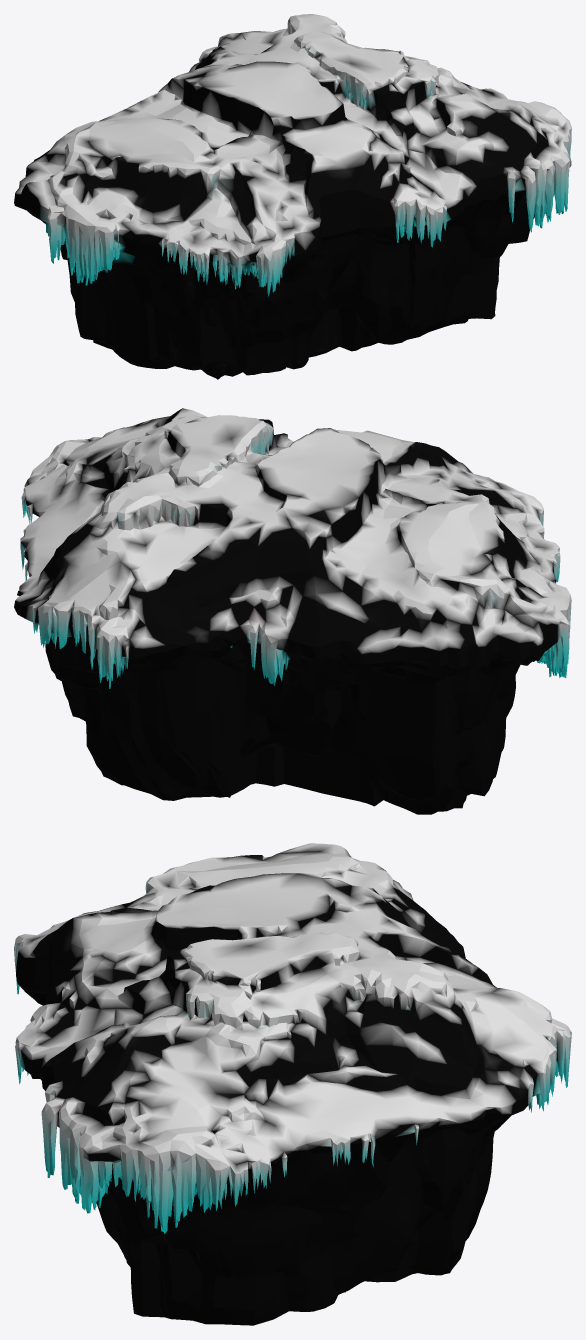
Rendered from CliffIce_0.fbx.
The picture shows the model from 3 angles, top to bottom: view 1: azimuth 30°, elevation 25°; view 2: azimuth 150°, elevation 25°; view 3: azimuth 270°, elevation 25°; orthographic projection. The views are drawn at different scales.
Parts seen in each view (by area): view 1: CliffIce_0_LOD0; view 2: CliffIce_0_LOD0; view 3: CliffIce_0_LOD0.
Part boxes in pixels (x1,y1,x2,y2): CliffIce_0_LOD0: [14, 14, 571, 379]; CliffIce_0_LOD0: [14, 408, 571, 814]; CliffIce_0_LOD0: [14, 843, 571, 1325].
Size of what is drawn, in the model's own units: 2172 by 1058 by 1695.
